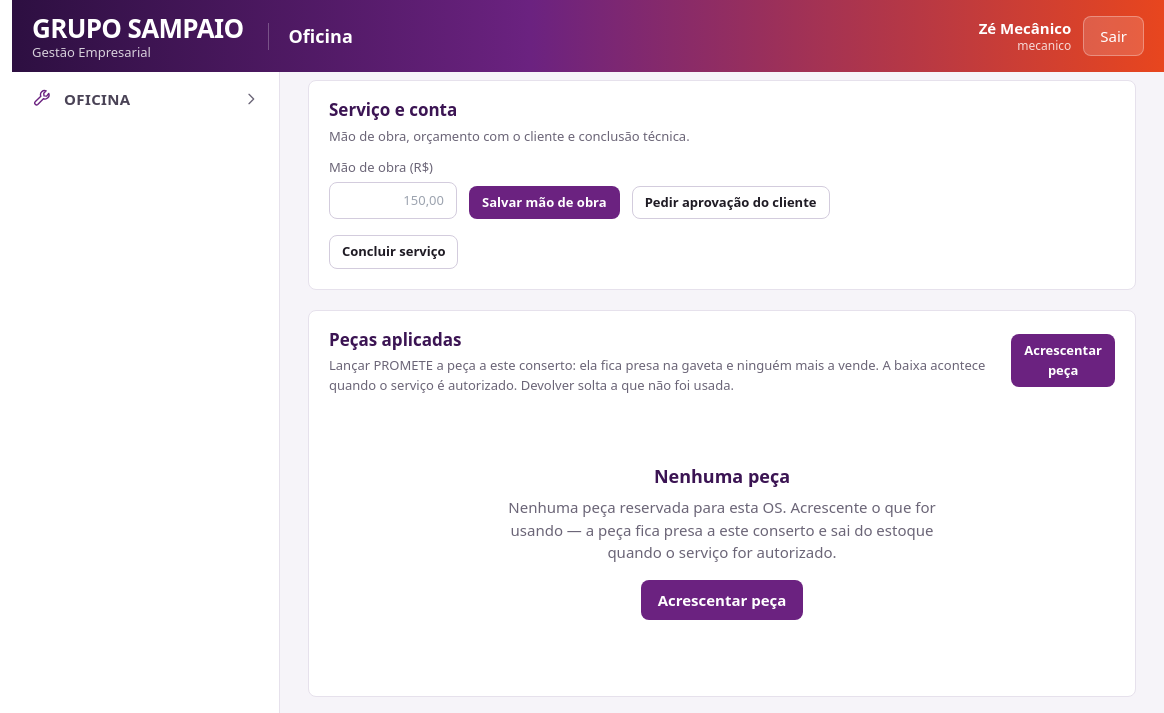
Test: a recusa da bancada aparece com as palavras do servidor › falta de peça: os números da bancada chegam ao mecânico
The width and height of the screenshot is (1164, 713).
(page scrolled)
Click the button "Acrescentar peça" in the row of "Peças aplicadas".
click(1063, 361)  # box [1011, 334, 1115, 387]
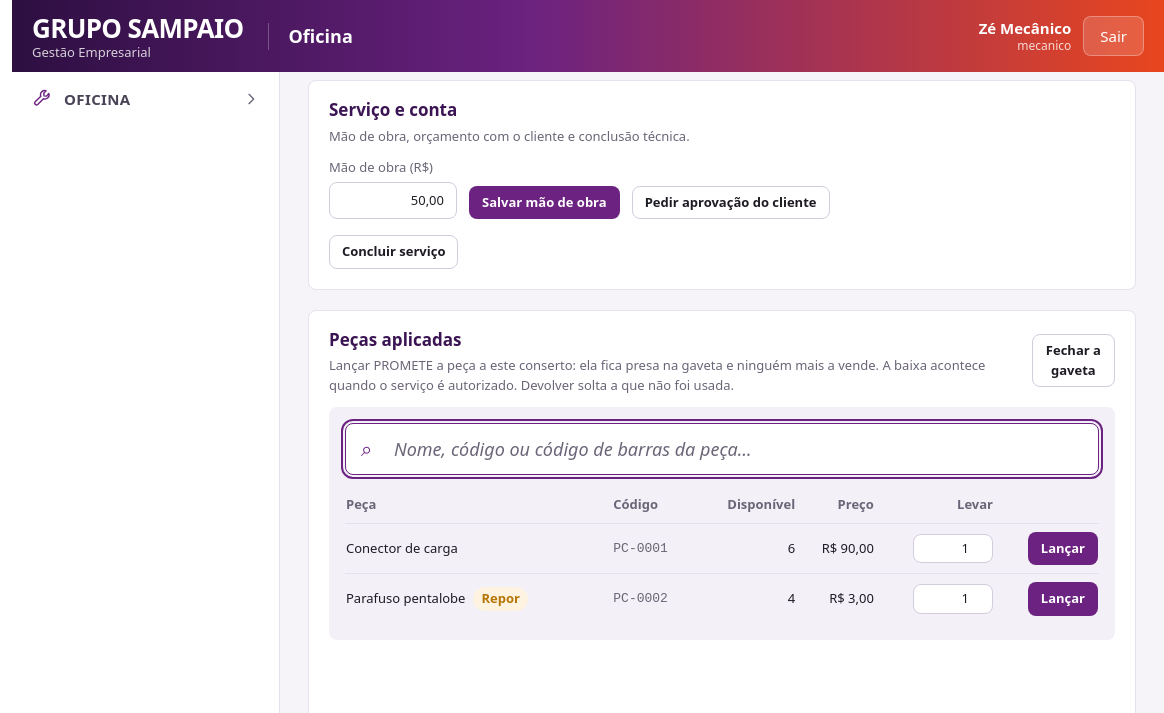
Click the button "Lançar" in the row of "Conector de carga".
click(1063, 548)  # box [1028, 532, 1098, 565]
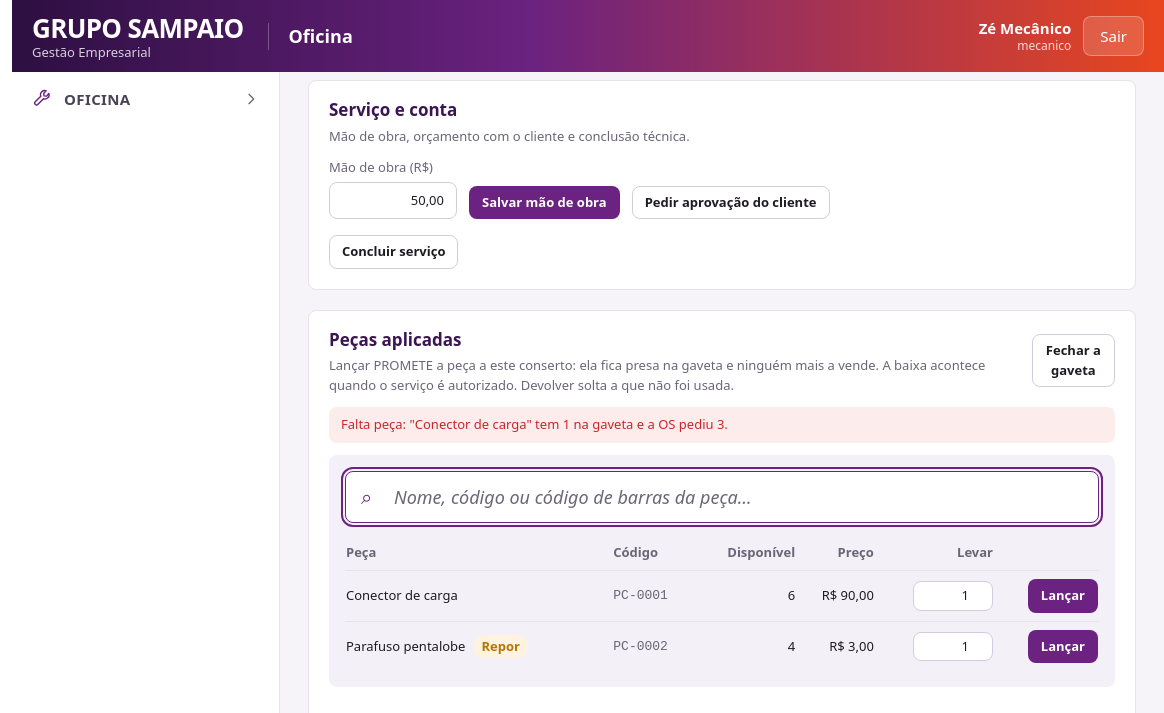
Check: the message shows "Conector de carga", box [341, 415, 728, 433]
Check: the message shows "1 na gaveta", box [341, 415, 728, 433]
Check: the message shows "pediu 3", box [341, 415, 728, 433]
